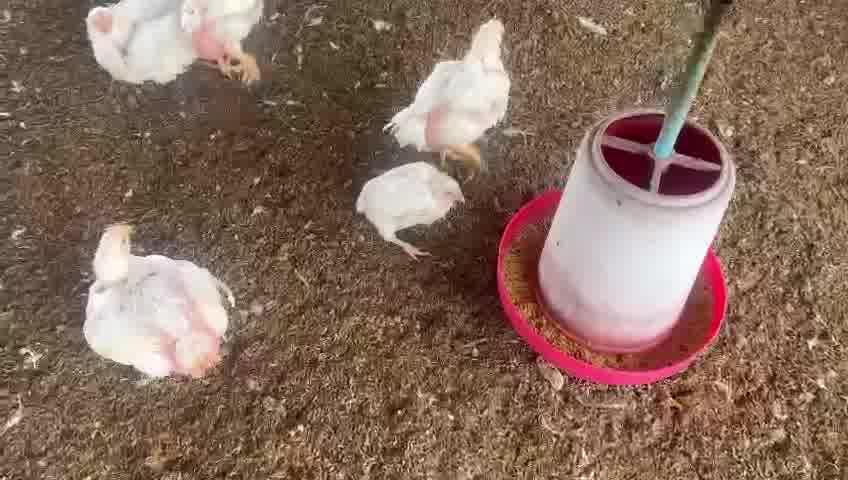AbNormal: (83, 223, 239, 377), (86, 1, 208, 83), (364, 164, 473, 254)
Normal: (395, 19, 509, 162), (190, 0, 266, 85)
